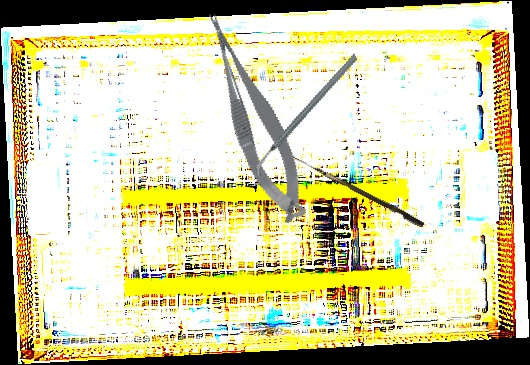Chopper: (228, 53, 385, 178)
Hook Surgical: (280, 150, 426, 229)
Micro Scissor: (198, 1, 314, 232)
